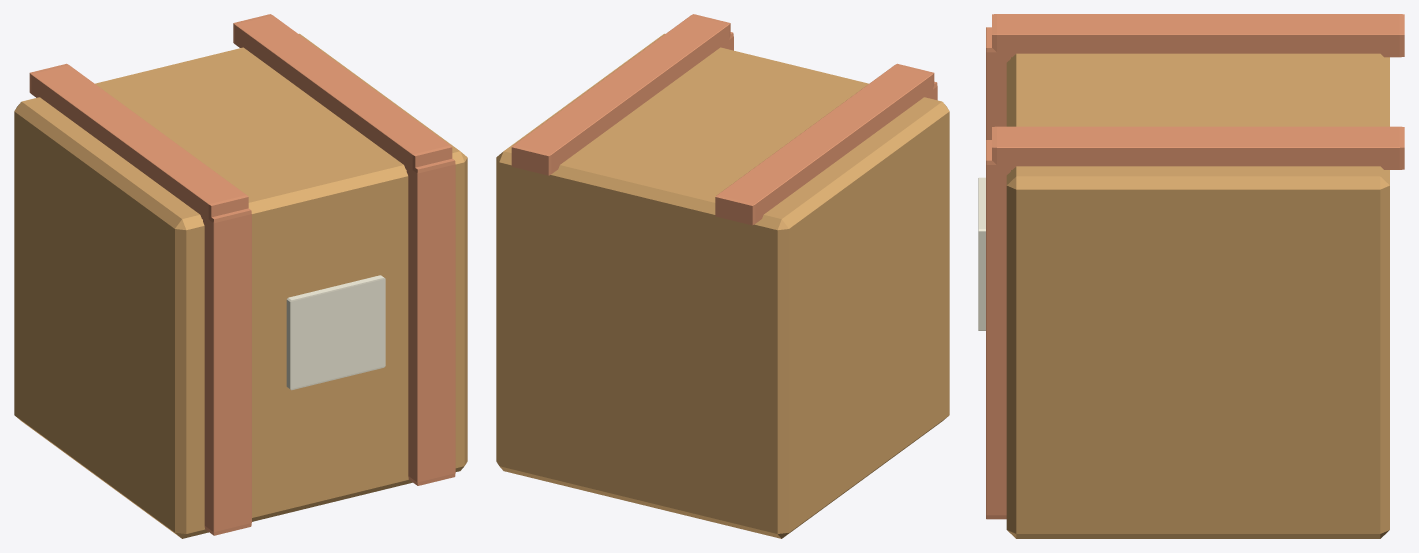
File: crate_1m.glb
3 views of the same model, side by side, from view 1: azimuth 30°, elevation 25°; view 2: azimuth 150°, elevation 25°; view 3: azimuth 270°, elevation 25° (orthographic). The views are drawn at different scales.
Parts seen in each view (by area): view 1: Crate body.001, Face strap.003, Face strap.002, Top strap.003, Top strap.002, Crate label.001; view 2: Crate body.001, Top strap.002, Top strap.003; view 3: Crate body.001, Top strap.003, Top strap.002, Face strap.003, Face strap.002, Crate label.001.
Part boxes in pixels (x1,y1,x2,y2): Crate body.001: (14,33,467,538); Face strap.003: (406,158,455,485); Face strap.002: (203,208,251,535); Top strap.003: (233,14,452,170); Top strap.002: (29,63,248,219); Crate label.001: (286,275,385,390); Crate body.001: (496,33,949,538); Top strap.002: (715,63,934,225); Top strap.003: (511,14,730,175); Crate body.001: (1006,53,1389,538); Top strap.003: (992,126,1404,169); Top strap.002: (992,14,1404,57); Face strap.003: (986,140,1010,519); Face strap.002: (986,27,1010,139); Crate label.001: (978,177,985,330).
Size of the model in its own units: 0.92 by 1.01 by 1.02.
